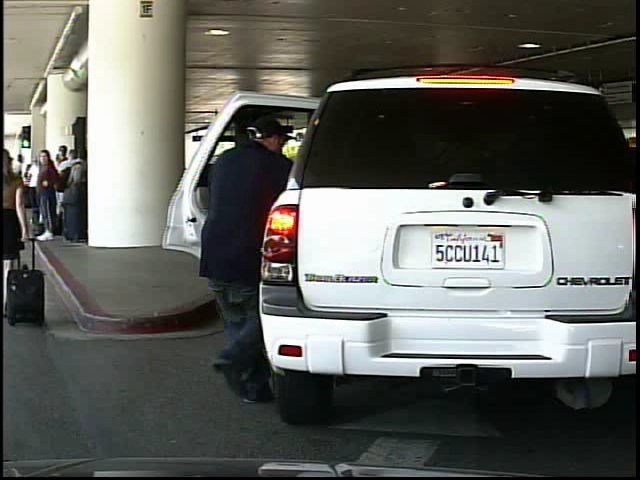person: (191, 108, 299, 396)
